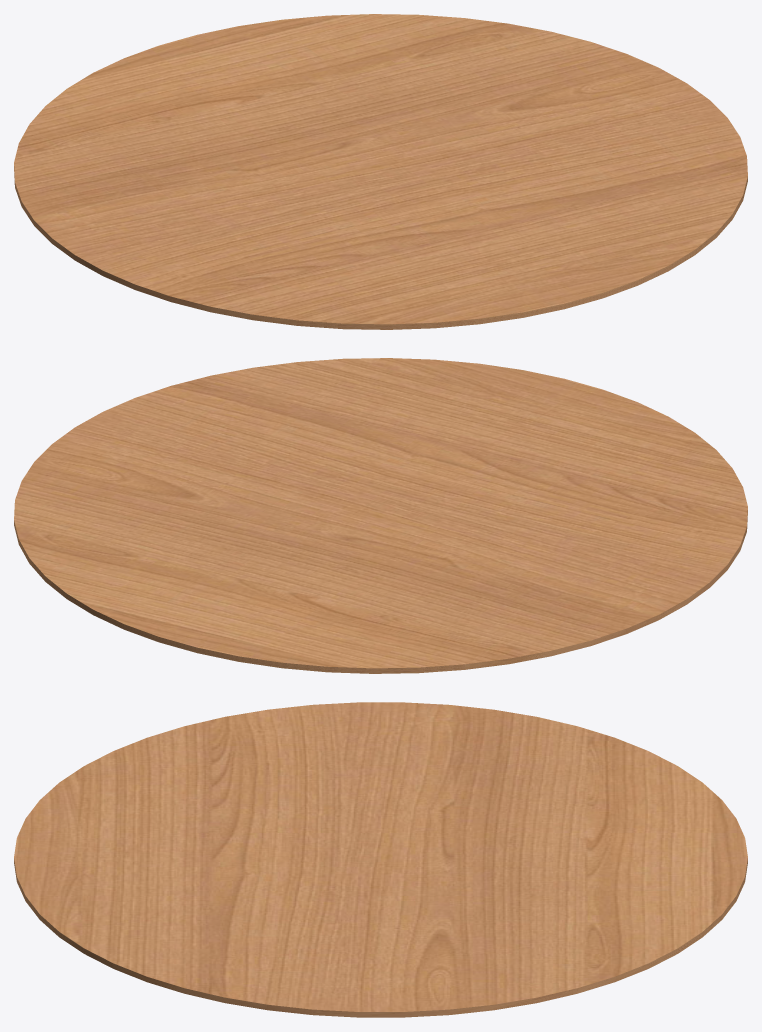
The model's file is floor_circle.FBX.
The picture shows the model from 3 angles, top to bottom: view 1: azimuth 30°, elevation 25°; view 2: azimuth 150°, elevation 25°; view 3: azimuth 270°, elevation 25°; orthographic projection.
Parts seen in each view (by area): view 1: floor_circle; view 2: floor_circle; view 3: floor_circle.
Part boxes in pixels (x1,y1,x2,y2): floor_circle: (14,14,747,329); floor_circle: (14,358,747,673); floor_circle: (14,702,747,1017).
Bounding box in the file's own units: 203 × 1.7 × 203.
1 material, 1 textured.
